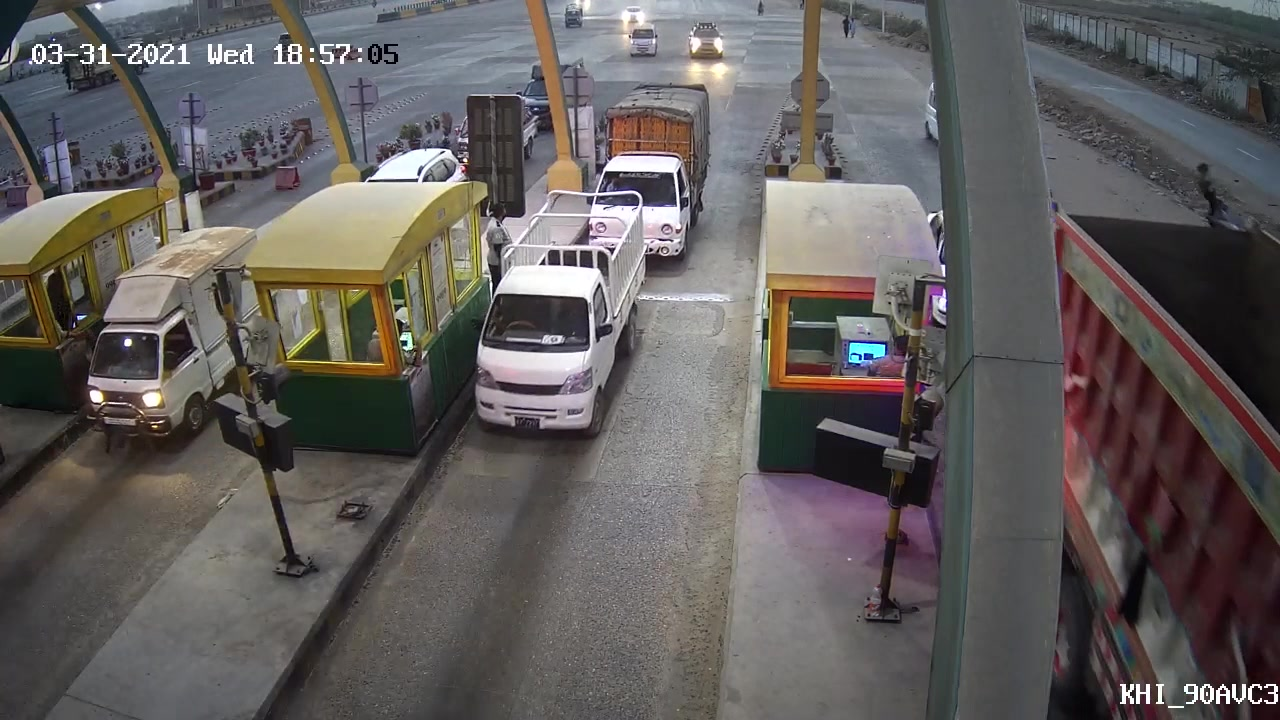F2: (464, 199, 654, 449)
